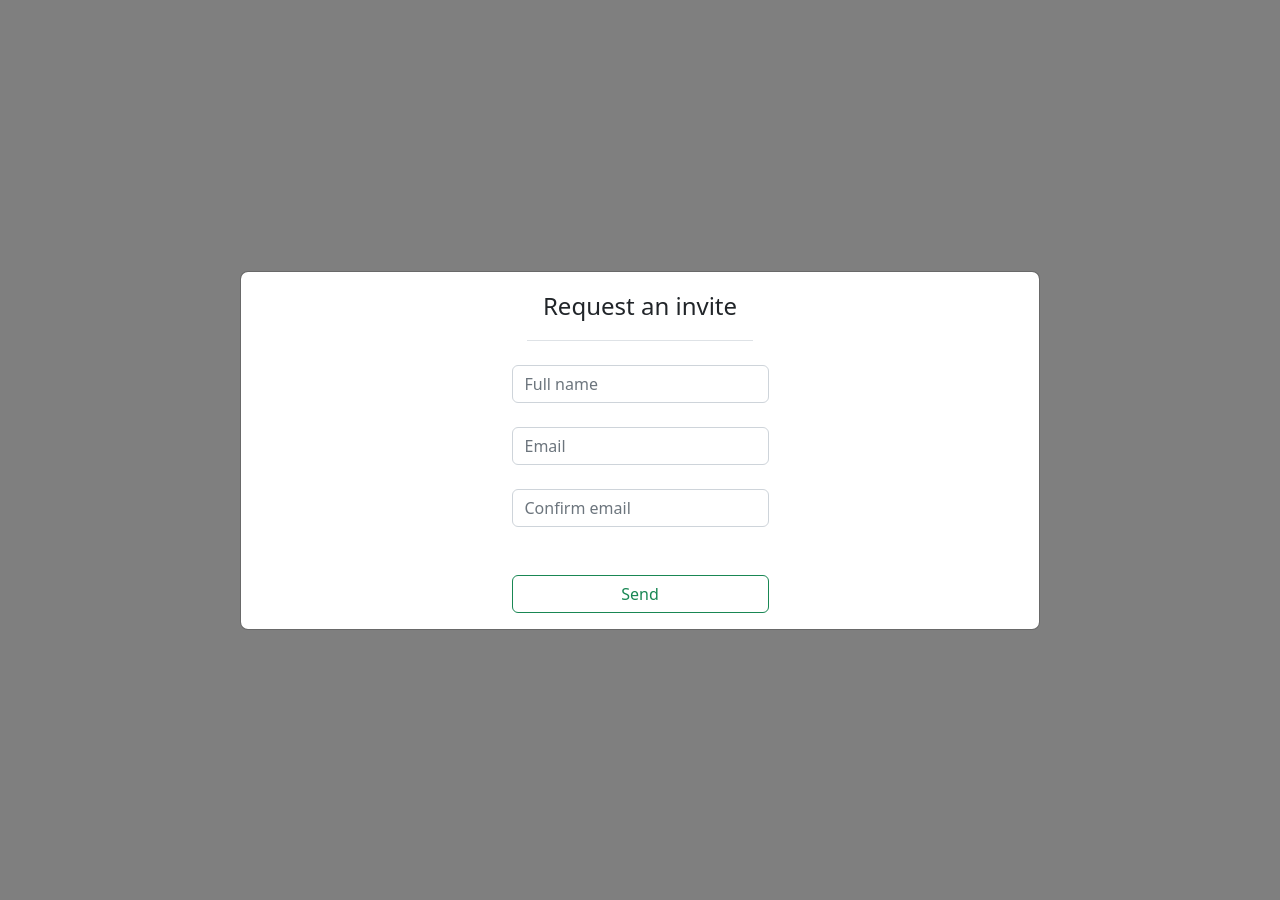
Scenario: test email should be in a valid email format
Type "A@gmail" into the field with placeholder "Email" at (640, 446), box [512,426,768,464]
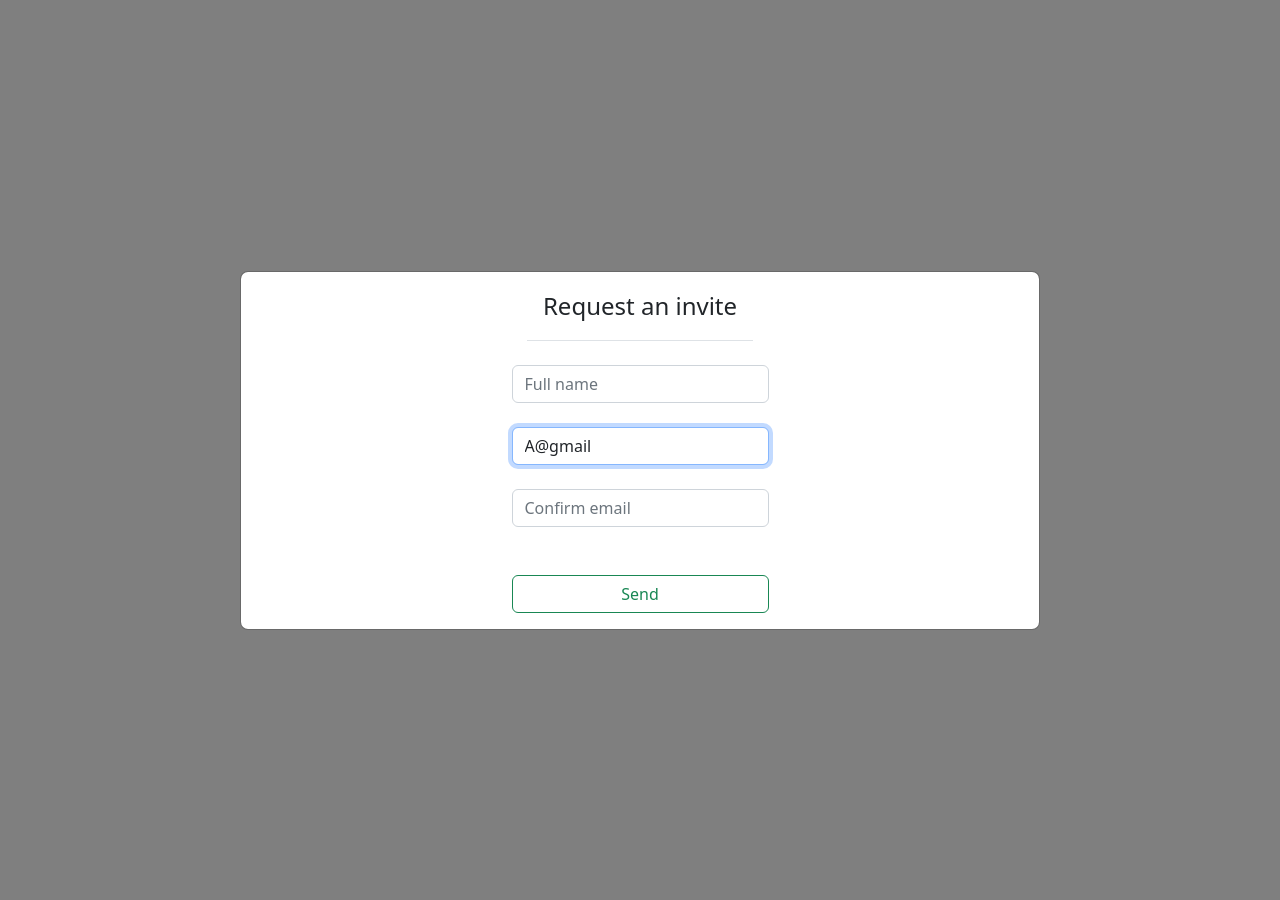
Click the button at (640, 594), box [512,574,768,612]
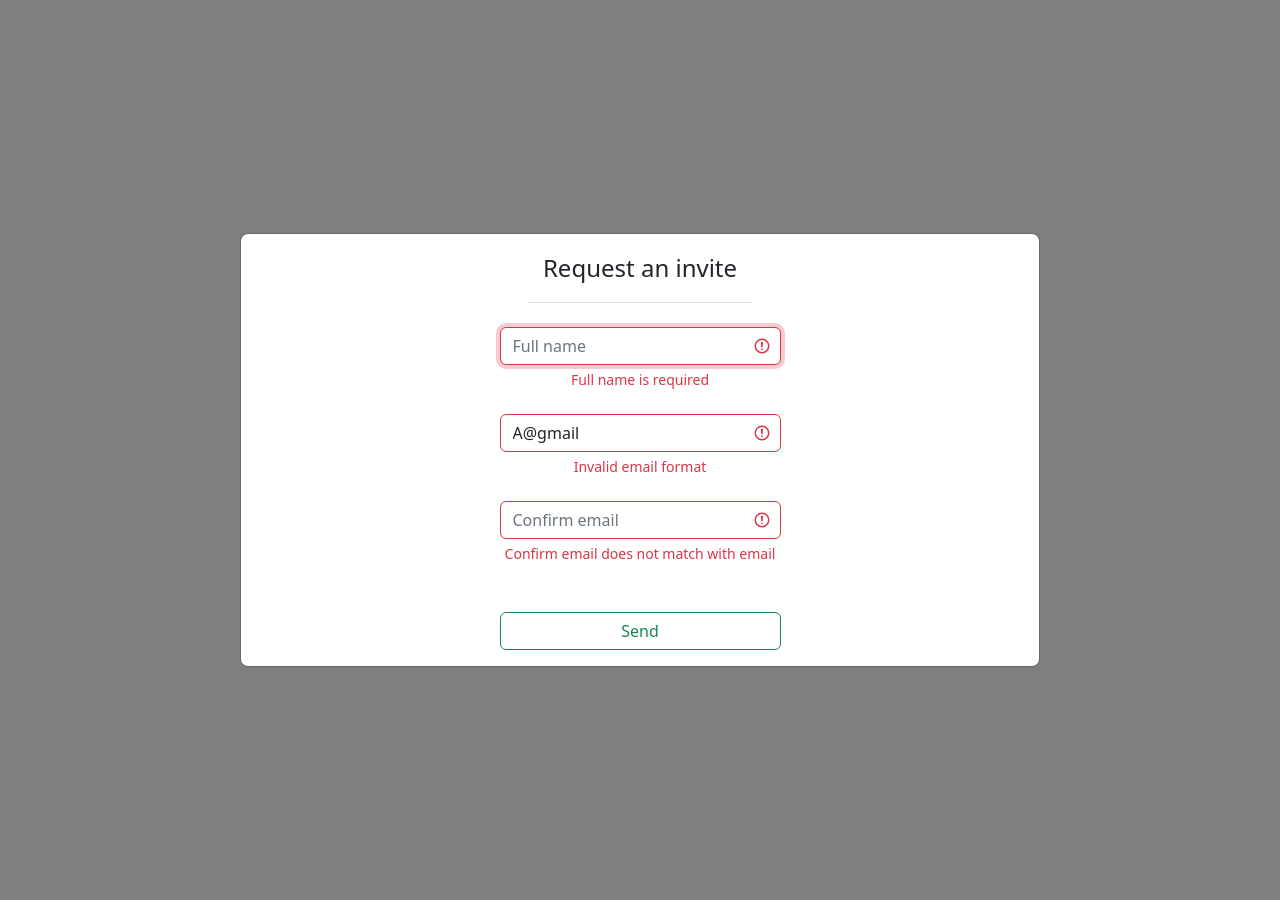
Expected: the text "Invalid email format" is shown, [574,457,706,476]
